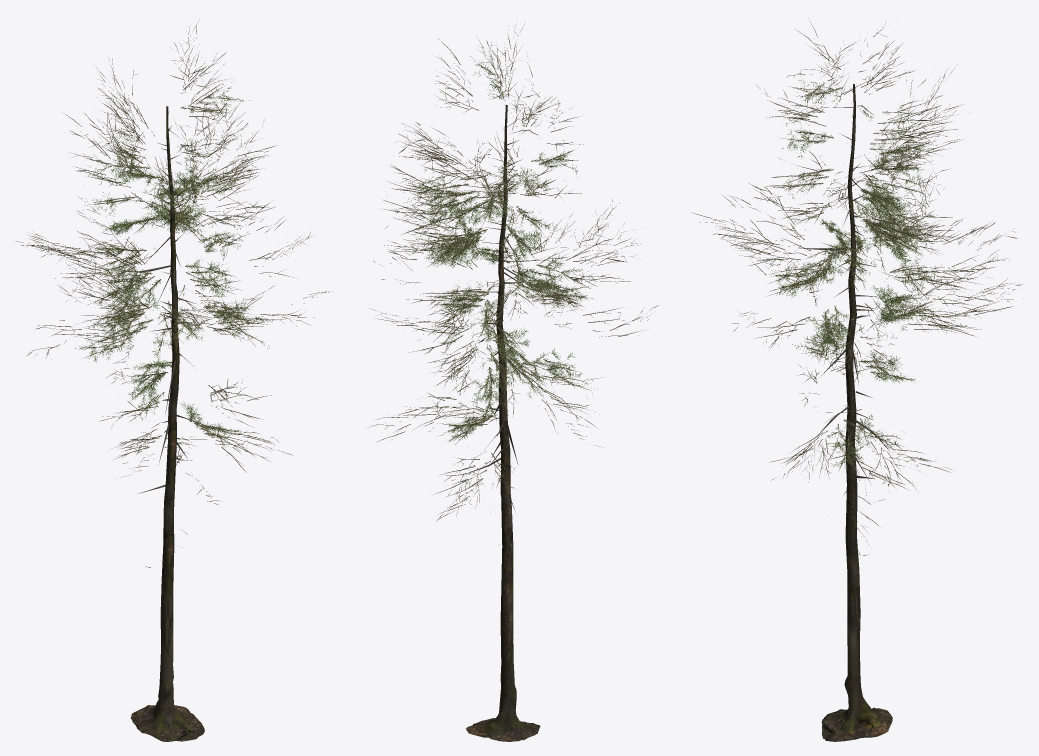
File: fir_tree_01.gltf
3 renders of one model, left to right at view 1: azimuth 30°, elevation 25°; view 2: azimuth 150°, elevation 25°; view 3: azimuth 270°, elevation 25°, orthographic. The views are drawn at different scales.
Visible parts, largest first — view 1: fir_tree_01_b; view 2: fir_tree_01_b; view 3: fir_tree_01_b.
Boxes of the visible parts, left/top/right/bottom form: fir_tree_01_b: left=16, top=21, right=332, bottom=741; fir_tree_01_b: left=370, top=22, right=658, bottom=741; fir_tree_01_b: left=692, top=18, right=1023, bottom=741.
Bounding box in the file's own units: 5.31 × 13.95 × 5.89.
4 materials, 4 textured.
